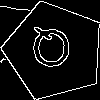Q: (29, 26, 73, 76)
